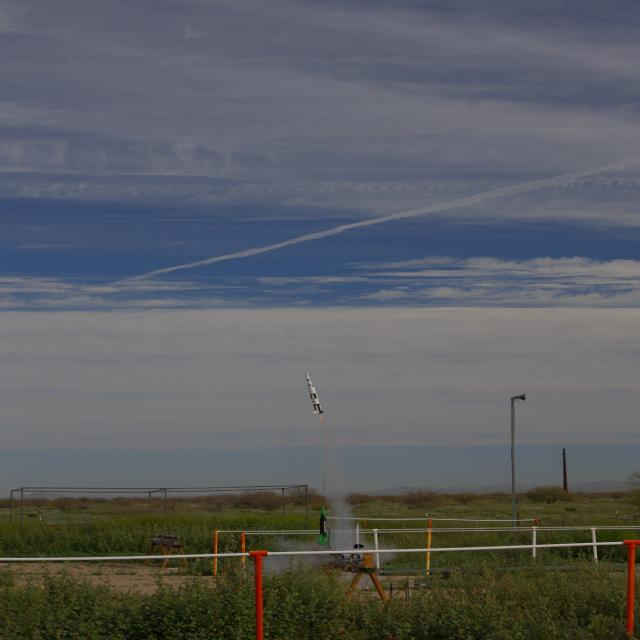Rocket: (305, 373, 326, 414), (316, 505, 332, 545), (352, 523, 366, 550)
